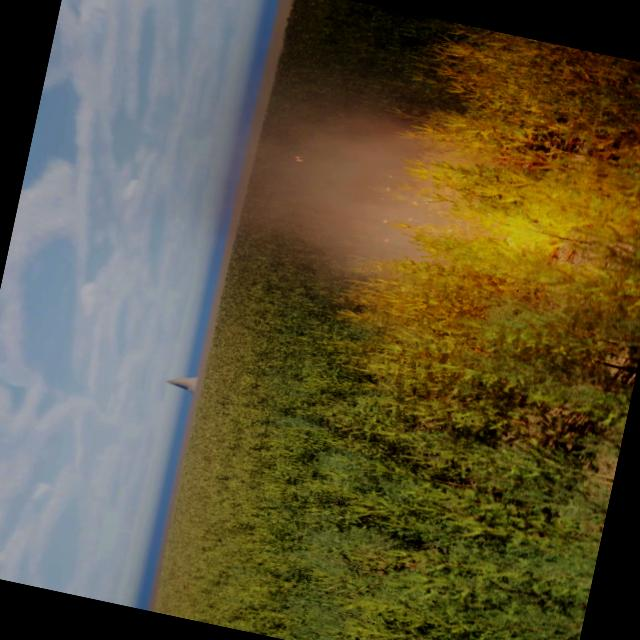smoke: (212, 68, 502, 300)
